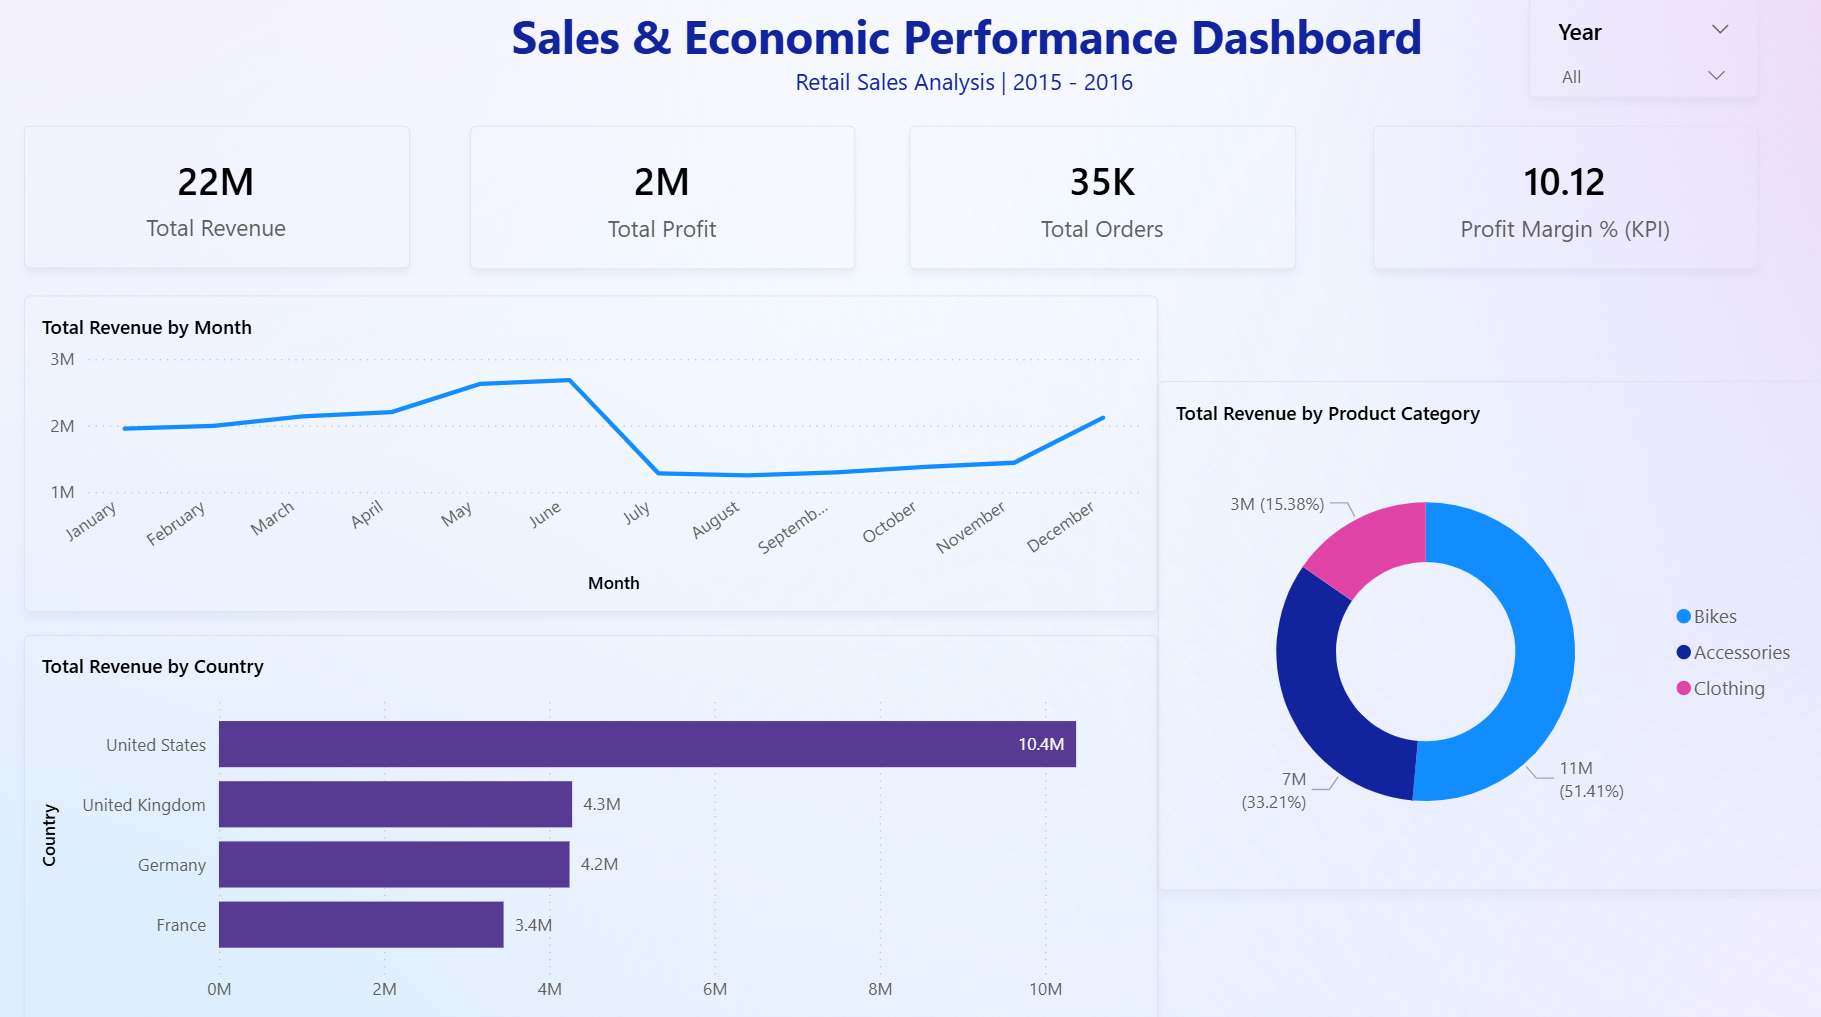

Layout of this report page (visuals, bound fields, positions):
{"tool":"powerbi","page":{"name":"Overview","canvas":[1280,720],"ordinal":0},"visuals":[{"type":"card","fields":{"Values":["salesforcourse-4fe2kehu.Total Revenue"]},"box":[20,90,270,100],"z":0},{"type":"card","fields":{"Values":["salesforcourse-4fe2kehu.Total Profit"]},"box":[332.3,89.5,269.7,100.5],"z":1000},{"type":"card","fields":{"Values":["salesforcourse-4fe2kehu.Total Orders"]},"box":[640,89.5,271,100.5],"z":2000},{"type":"card","fields":{"Values":["salesforcourse-4fe2kehu.Profit Margin DAX"]},"box":[964.9,89.5,269.7,100.5],"z":3000},{"type":"textbox","box":[149.6,0,1061.8,93.2],"z":4000},{"type":"lineChart","fields":{"Category":["salesforcourse-4fe2kehu.Month"],"Y":["salesforcourse-4fe2kehu.Total Revenue"]},"box":[19.6,208.4,794.5,221.9],"z":5000},{"type":"clusteredBarChart","fields":{"Category":["salesforcourse-4fe2kehu.Country"],"Y":["salesforcourse-4fe2kehu.Total Revenue"]},"box":[19.6,446.3,794.5,274.6],"z":6000},{"type":"slicer","fields":{"Values":["salesforcourse-4fe2kehu.Year"]},"box":[1074,0,160.6,69.9],"z":7000},{"type":"donutChart","fields":{"Category":["salesforcourse-4fe2kehu.Product Category"],"Y":["salesforcourse-4fe2kehu.Total Revenue"]},"box":[814.1,268.5,465.9,356.8],"z":8000}]}

Visuals, with their boxes in screenshot pixels (x1, y1, x2, y2), scaled from the page's 1280x720 canvas onto the 1821x1017 screenshot:
card - salesforcourse-4fe2kehu.Total Revenue: box(28, 127, 413, 268)
card - salesforcourse-4fe2kehu.Total Profit: box(473, 126, 856, 268)
card - salesforcourse-4fe2kehu.Total Orders: box(910, 126, 1296, 268)
card - salesforcourse-4fe2kehu.Profit Margin DAX: box(1373, 126, 1756, 268)
textbox: box(213, 0, 1723, 132)
lineChart - salesforcourse-4fe2kehu.Month x salesforcourse-4fe2kehu.Total Revenue: box(28, 294, 1158, 608)
clusteredBarChart - salesforcourse-4fe2kehu.Country x salesforcourse-4fe2kehu.Total Revenue: box(28, 630, 1158, 1016)
slicer - salesforcourse-4fe2kehu.Year: box(1528, 0, 1756, 99)
donutChart - salesforcourse-4fe2kehu.Product Category x salesforcourse-4fe2kehu.Total Revenue: box(1158, 379, 1820, 883)
